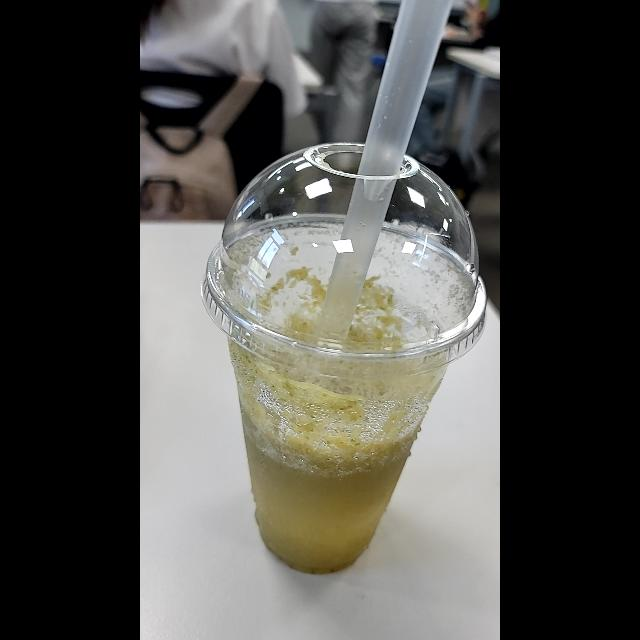plastic_cup: (202, 138, 490, 578)
plastic_cup_lid: (202, 140, 488, 380)
